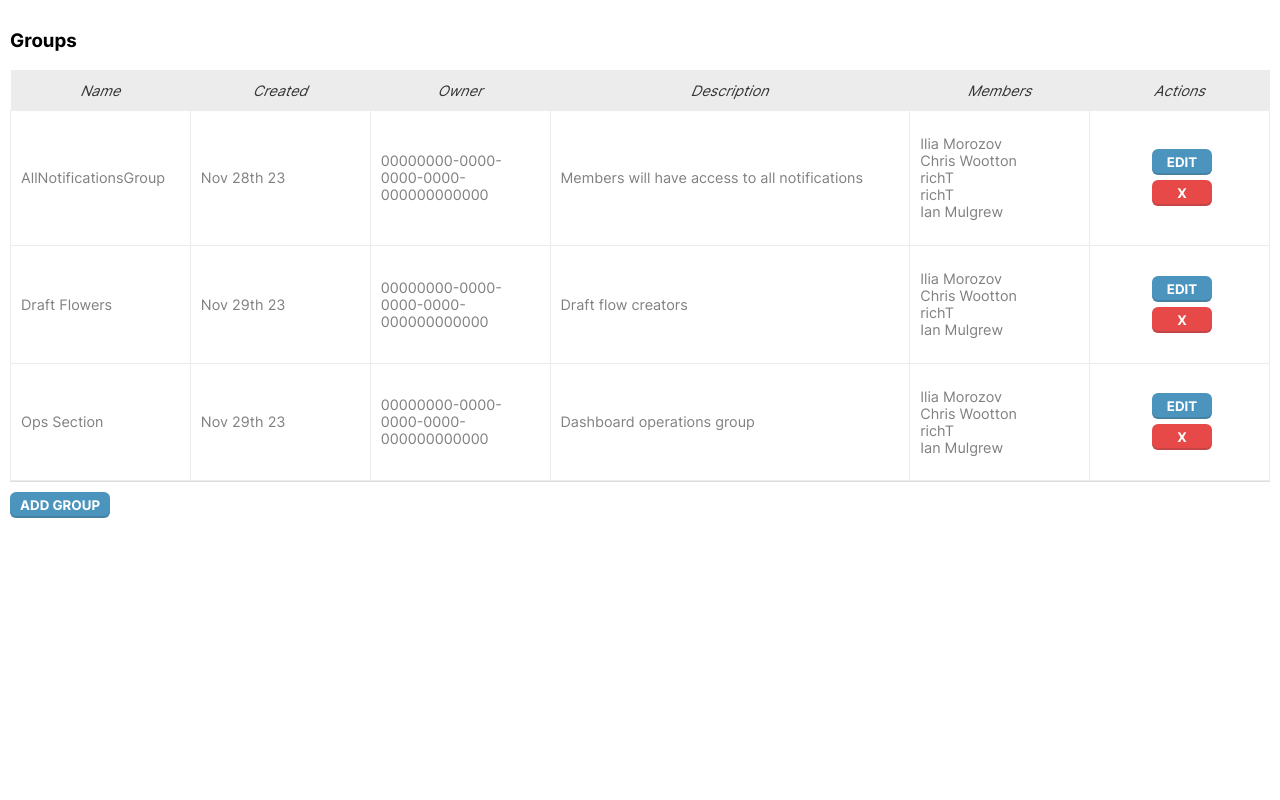
Test case: UserTable component › renders Add Group modal window on ADD GROUP btn click
Click the button with test id "test_add_group_btn" at (60, 505), box top-left (10, 492), bottom-right (110, 518)
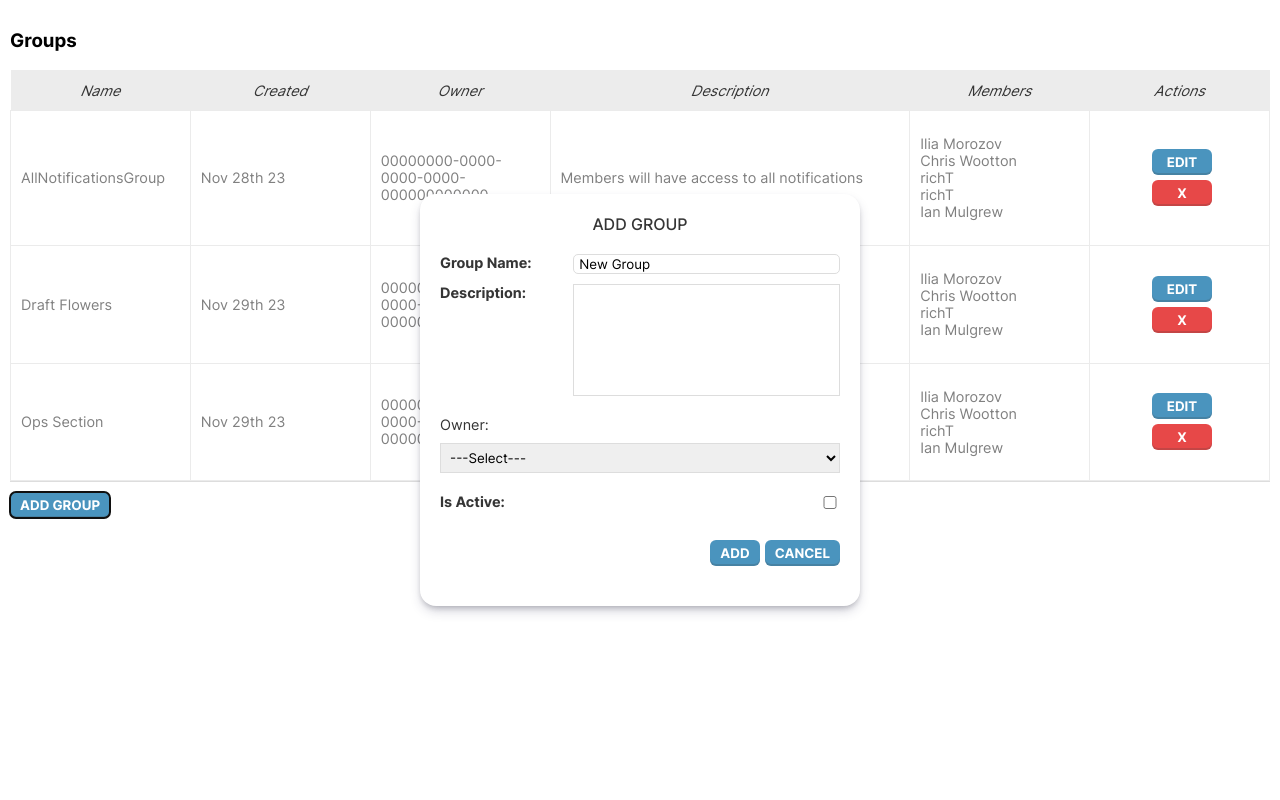
expect the text "Group Name:" is shown: met, box top-left (440, 254), bottom-right (532, 271)
